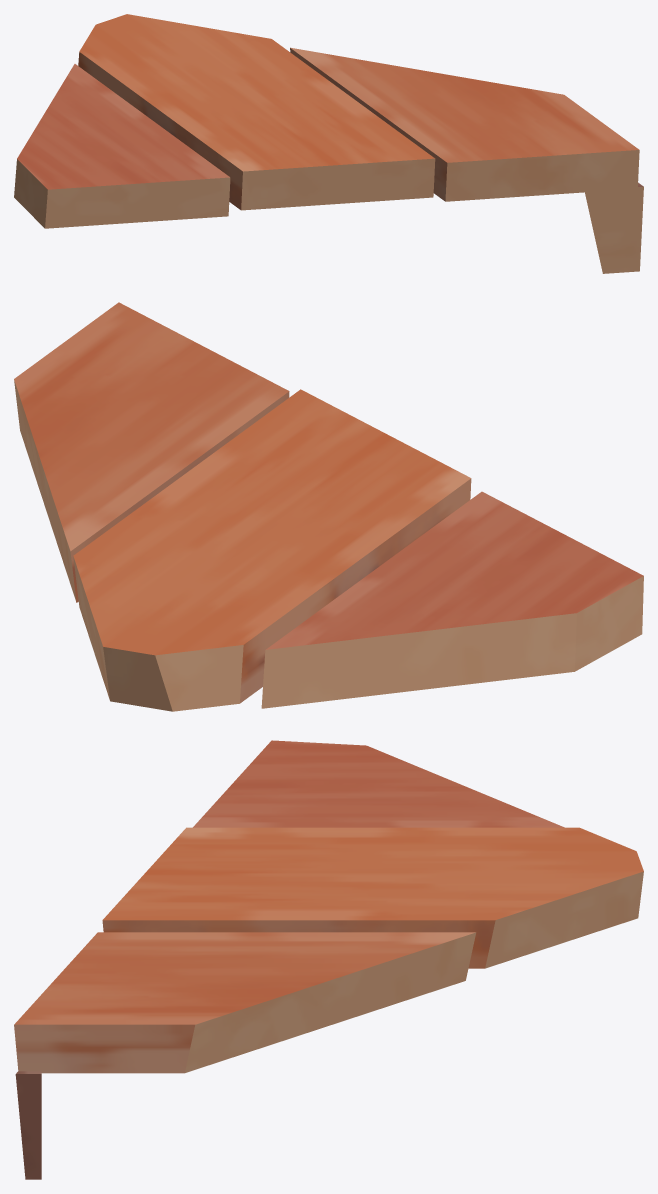
Rendered from plank_s00.fbx.
The picture shows the model from 3 angles, top to bottom: view 1: azimuth 30°, elevation 25°; view 2: azimuth 150°, elevation 25°; view 3: azimuth 270°, elevation 25°; orthographic projection. The views are drawn at different scales.
Visible parts, largest first — view 1: plank_s00; view 2: plank_s00; view 3: plank_s00.
Part boxes in pixels (x1,y1,x2,y2): plank_s00: [14, 14, 643, 273]; plank_s00: [14, 302, 643, 711]; plank_s00: [14, 740, 643, 1179].
Size of the model in its own units: 2.93 by 0.75 by 2.71.
